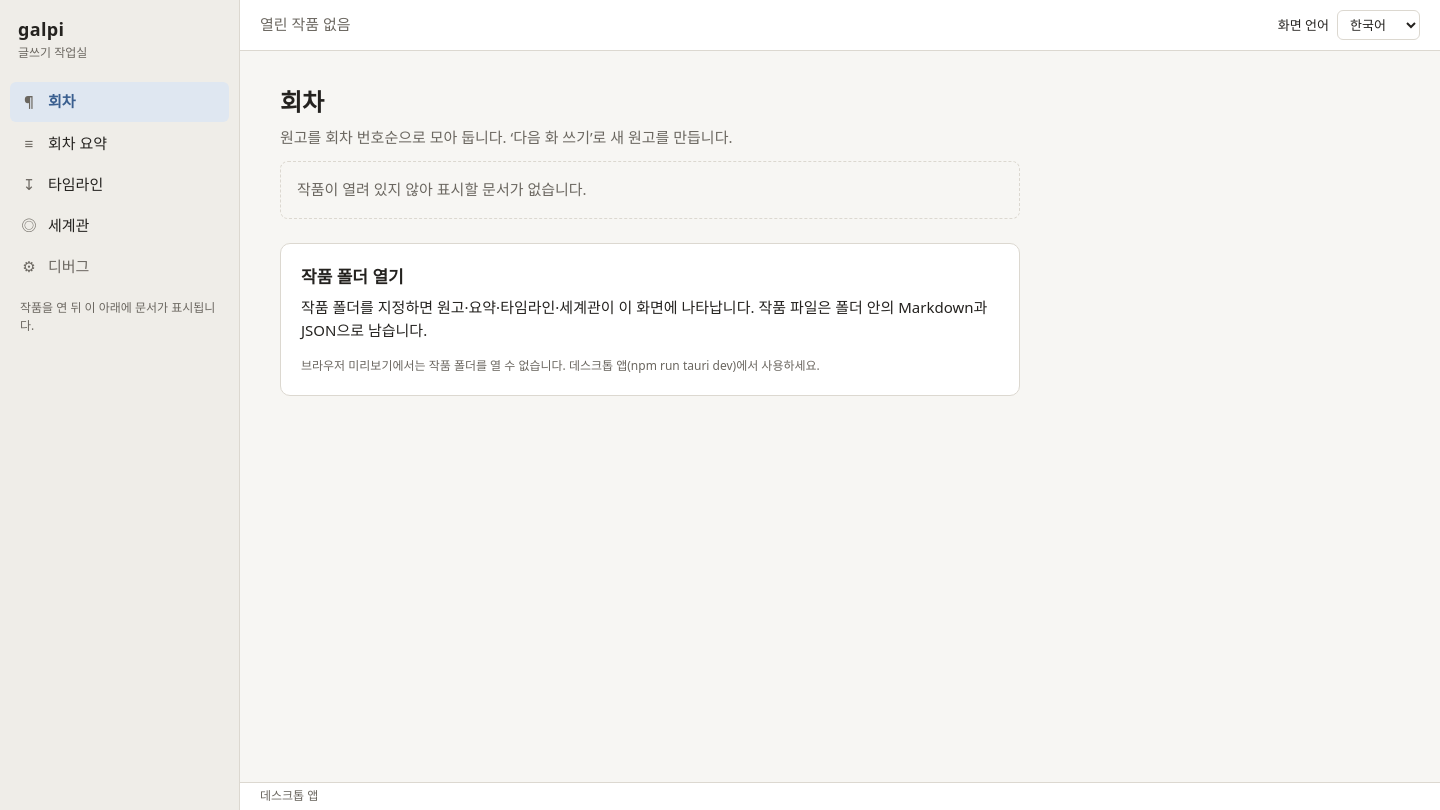
Test case: App shell › selecting a root changes the main panel
expect the navigation bar is shown: met, box [10,82,229,287]
Click the button "◎ 세계관" at [120, 226], box [10,206,229,246]
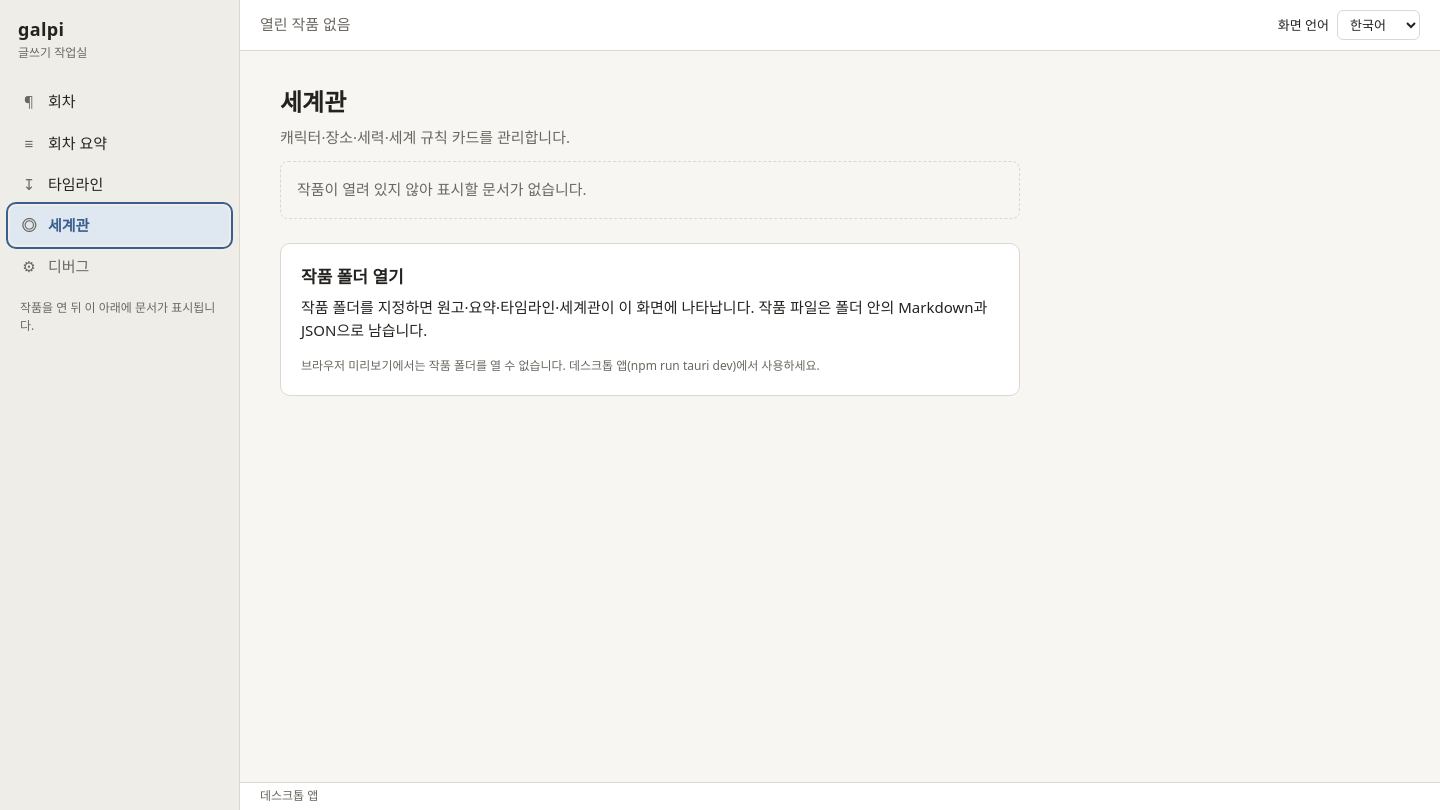
expect the heading "세계관" is shown: met, box [280,85,346,118]
